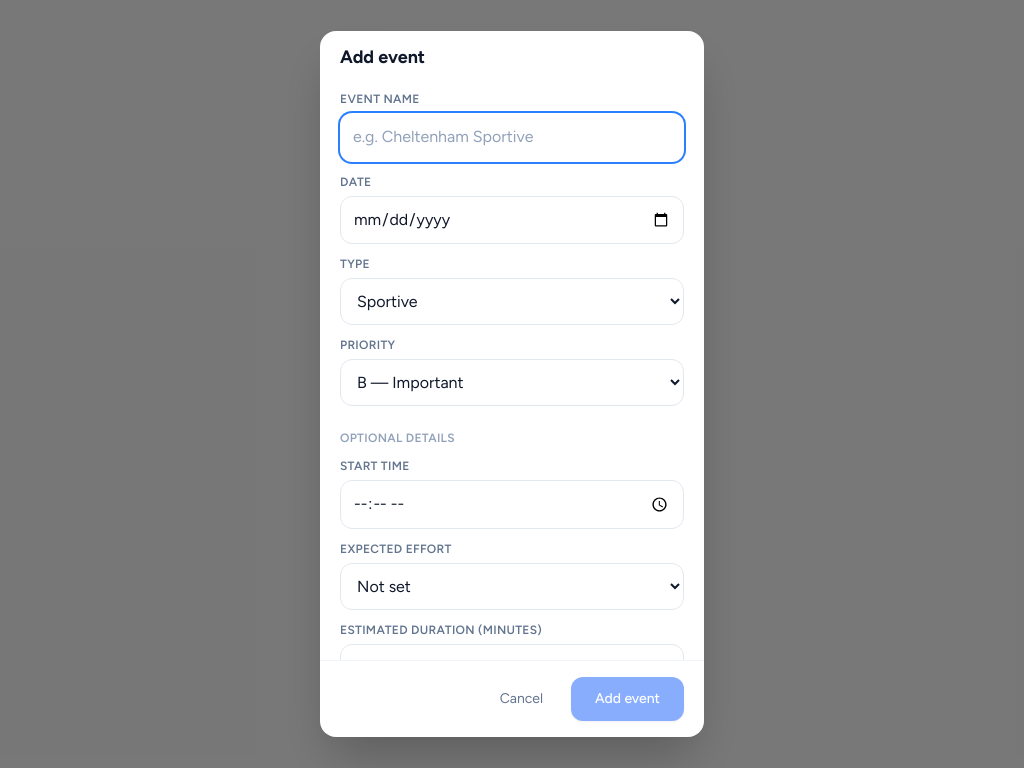
AddEventModal — holiday date range and continue training › disables Add event when End date is earlier than the start date
Type "Ski Trip" into the field with placeholder "e.g. Cheltenham Sportive" at (512, 137), box [340,113,684,162]
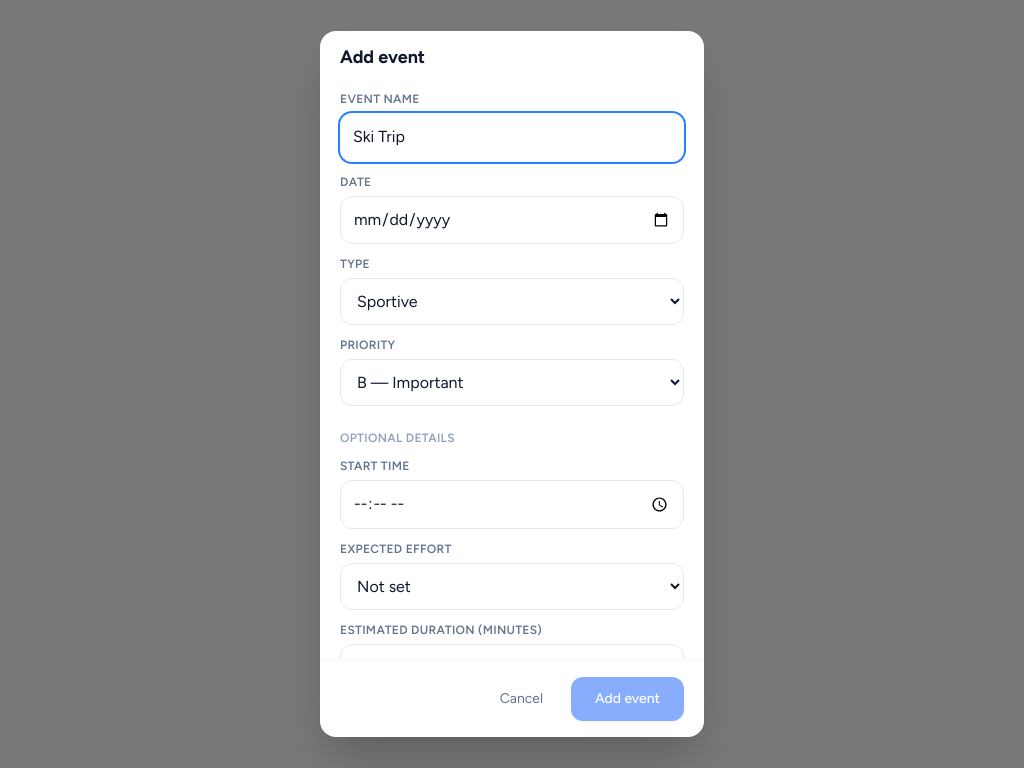
Type "2026-08-10" into the date field at (512, 220), box [340,196,684,244]
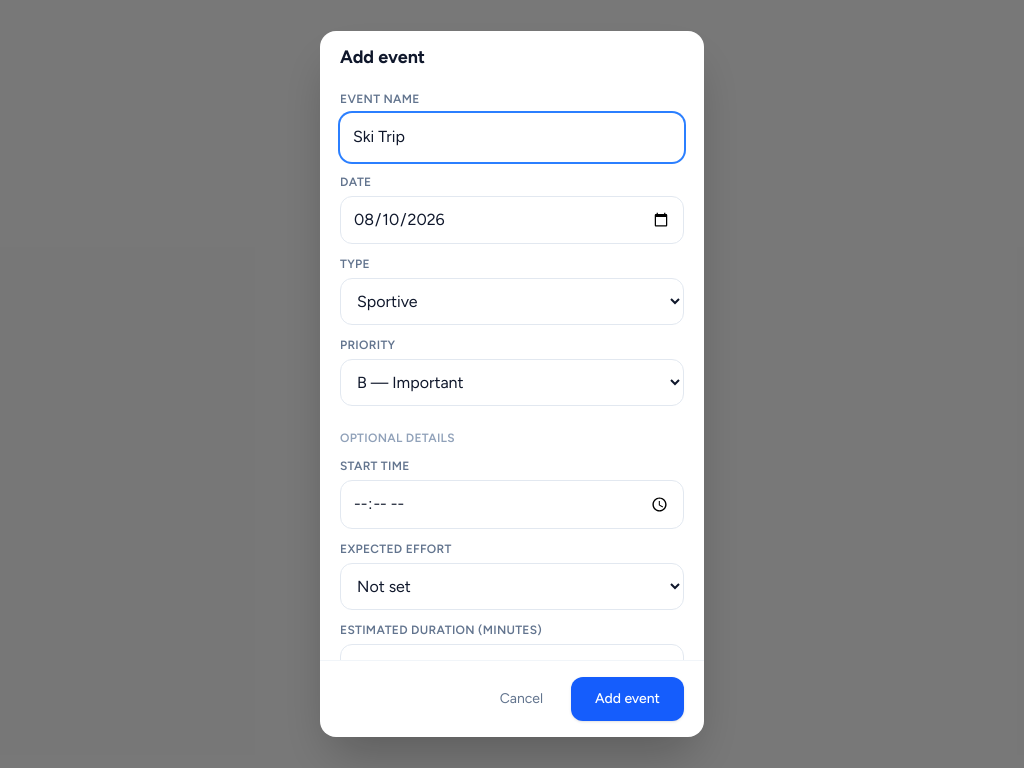
Select "Holiday riding" in the dropdown showing "Sportive" below "Type" at (512, 302), box [340,278,684,325]
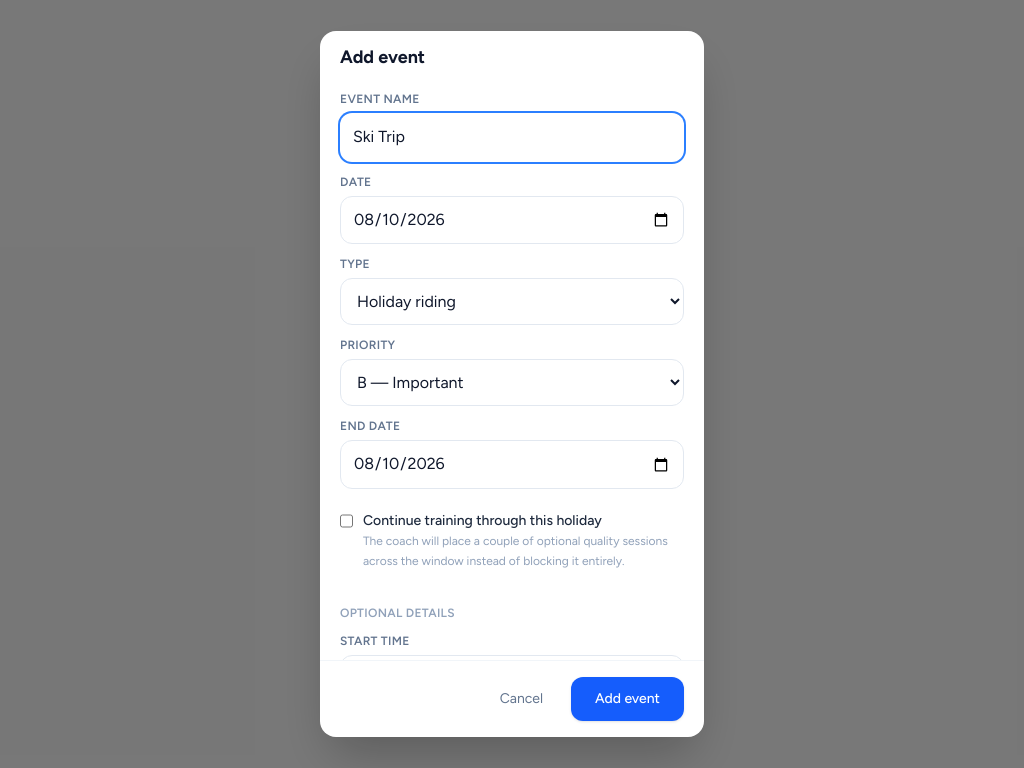
Type "2026-08-05" into the date field below "End date" at (512, 465), box [340,440,684,489]
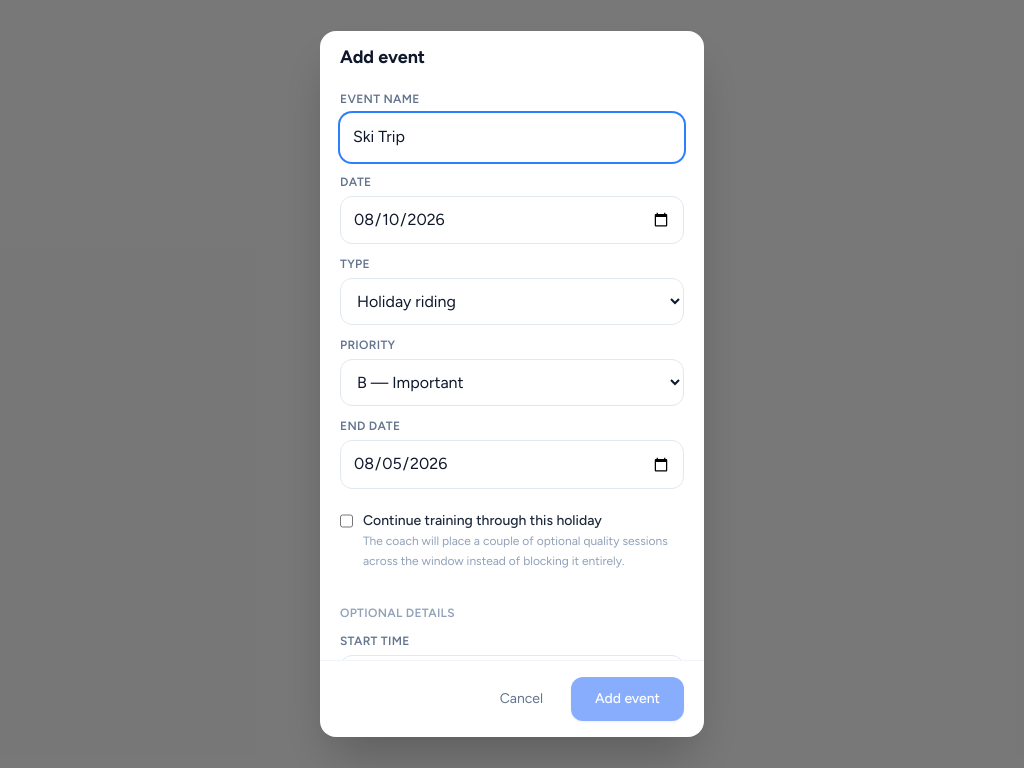
Expected: the button "Add event" is disabled, [571,677,684,721]
